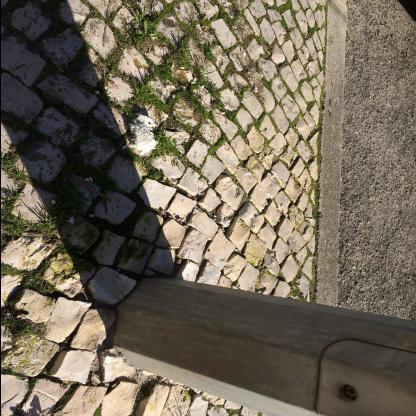kopuk: (129, 115, 159, 157)
